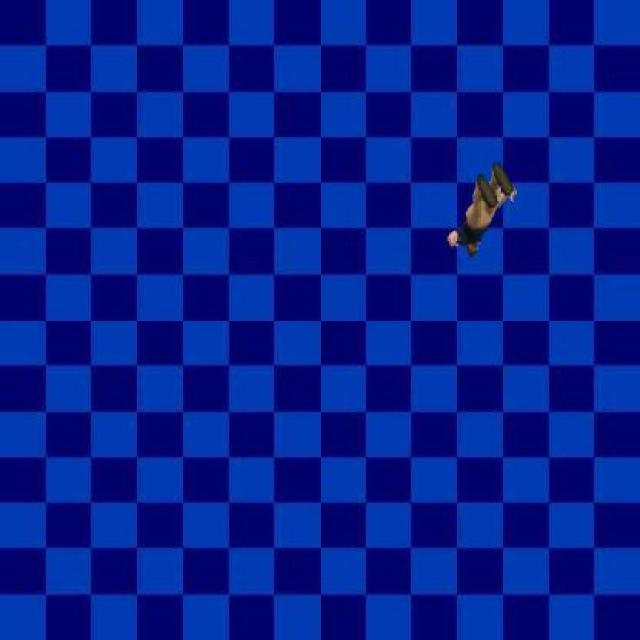Person: (447, 160, 524, 262)
